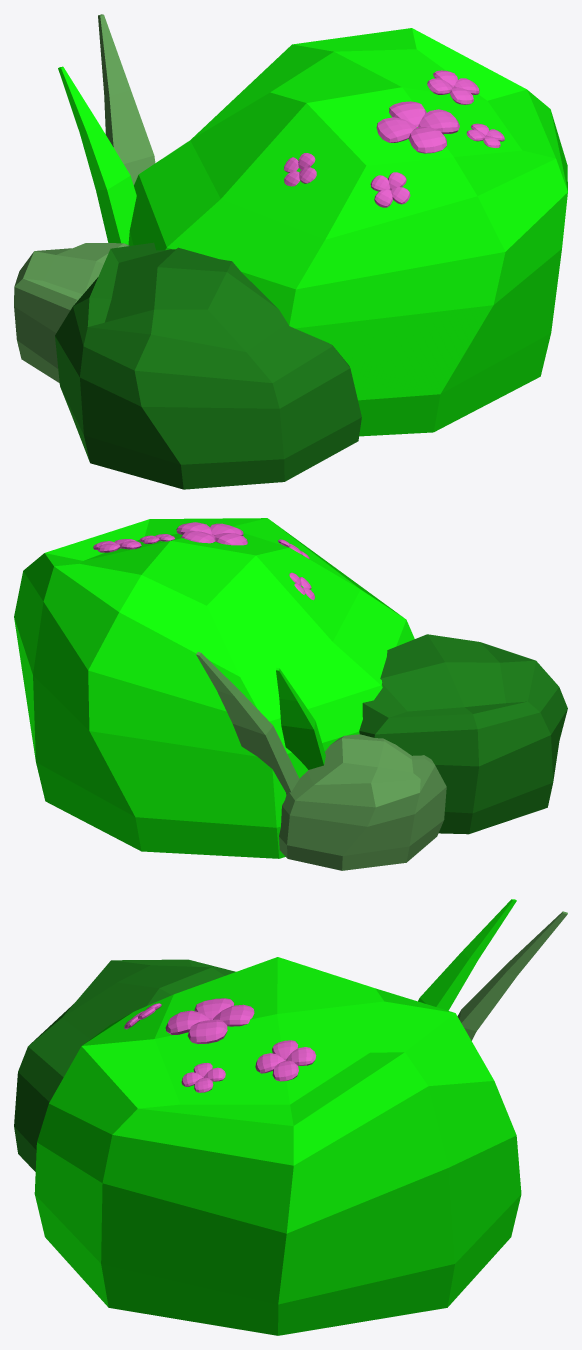
Rendered from Bush.fbx.
3 renders of one model, top to bottom at view 1: azimuth 30°, elevation 25°; view 2: azimuth 150°, elevation 25°; view 3: azimuth 270°, elevation 25°, orthographic. The views are drawn at different scales.
Visible parts, largest first — view 1: Cube.027; view 2: Cube.027; view 3: Cube.027.
Part boxes in pixels (<box>): Cube.027: <box>14,14,567,489</box>; Cube.027: <box>14,518,567,870</box>; Cube.027: <box>14,899,567,1335</box>.
Size of the model in its own units: 179 by 84.46 by 148.
